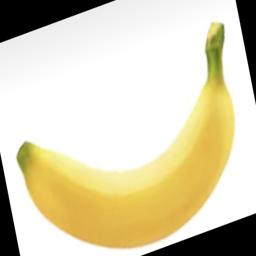Banana Fresh: (4, 23, 251, 245)
